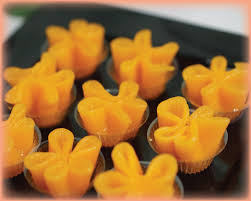tongyip: (151, 94, 230, 167), (25, 126, 100, 198), (94, 142, 173, 201), (181, 50, 249, 117), (5, 58, 78, 118), (80, 78, 147, 141), (113, 26, 177, 88), (41, 17, 107, 73)
